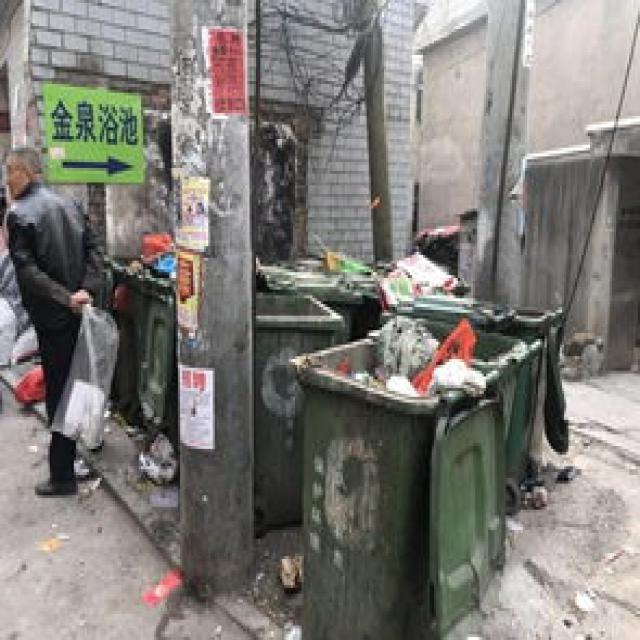garbage_bin: (252, 287, 345, 530)
overflow: (291, 310, 484, 637)
